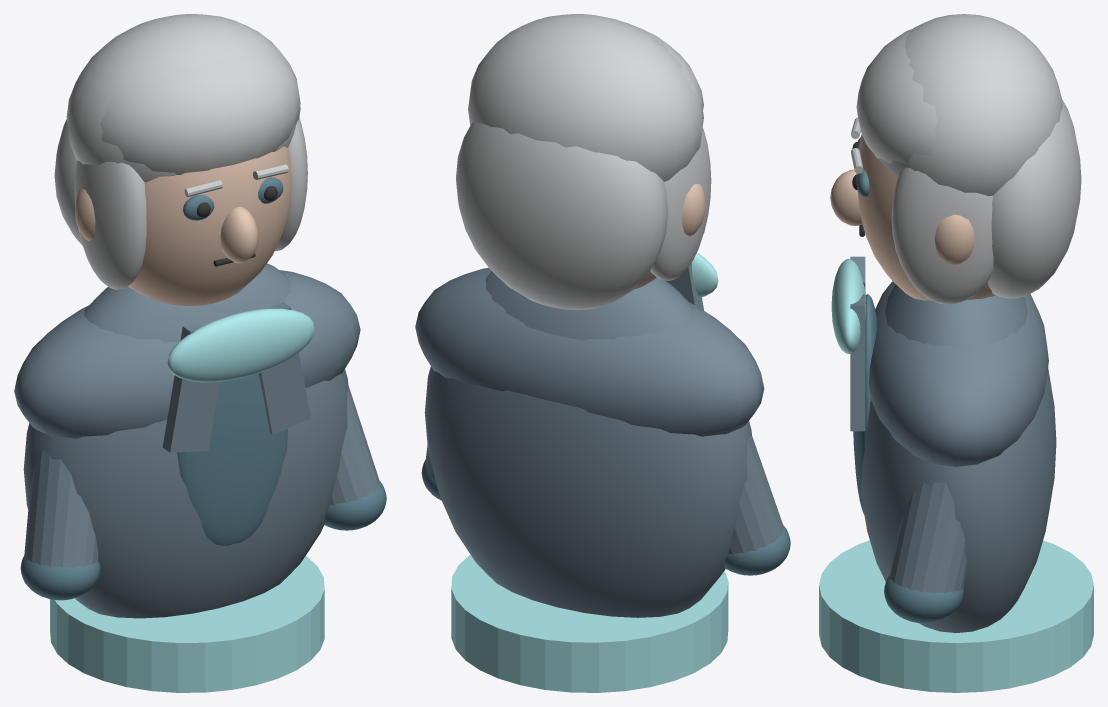
Rendered from macro.glb.
3 views of the same model, side by side, from view 1: azimuth 30°, elevation 25°; view 2: azimuth 150°, elevation 25°; view 3: azimuth 270°, elevation 25° (orthographic).
Parts seen in each view (by area): view 1: Jacket torso, Bust plinth, Shoulder line, Hair cap, Head, Silver bob, Shirt front, Cyan scarf, Hair side lock.011, Arm.011, Jacket lapel.010, Jacket lapel.011 (+7 smaller); view 2: Jacket torso, Shoulder line, Rear hair, Silver bob, Bust plinth, Hair side lock.011, Arm.011, Cuff.011, Ear.011, Cyan scarf, Hair cap, Jacket lapel.010; view 3: Jacket torso, Bust plinth, Silver bob, Shoulder line, Rear hair, Hair side lock, Hair cap, Arm, Head, Cyan scarf, Cuff, Jacket lapel.011 (+3 smaller).
Boxes of the visible parts, left/top/right/bottom form: Jacket torso: left=23, top=263, right=348, bottom=618; Bust plinth: left=50, top=556, right=324, bottom=692; Shoulder line: left=14, top=270, right=360, bottom=438; Hair cap: left=100, top=52, right=300, bottom=174; Head: left=128, top=146, right=291, bottom=306; Silver bob: left=66, top=14, right=300, bottom=182; Shirt front: left=177, top=373, right=287, bottom=545; Cyan scarf: left=167, top=308, right=314, bottom=382; Hair side lock.011: left=74, top=160, right=146, bottom=289; Arm.011: left=24, top=449, right=98, bottom=568; Jacket lapel.010: left=162, top=325, right=219, bottom=452; Jacket lapel.011: left=258, top=302, right=310, bottom=434; Jacket torso: left=424, top=271, right=752, bottom=617; Shoulder line: left=415, top=267, right=764, bottom=436; Rear hair: left=456, top=122, right=668, bottom=310; Silver bob: left=468, top=14, right=703, bottom=181; Bust plinth: left=451, top=554, right=728, bottom=692; Hair side lock.011: left=650, top=128, right=711, bottom=280; Arm.011: left=728, top=436, right=783, bottom=554; Cuff.011: left=724, top=525, right=790, bottom=575; Ear.011: left=682, top=183, right=705, bottom=236; Cyan scarf: left=692, top=252, right=718, bottom=297; Hair cap: left=631, top=24, right=703, bottom=116; Jacket lapel.010: left=665, top=262, right=703, bottom=310; Jacket torso: left=861, top=284, right=1056, bottom=632; Bust plinth: left=819, top=540, right=1093, bottom=692; Silver bob: left=878, top=14, right=1062, bottom=196; Shoulder line: left=869, top=281, right=1048, bottom=466; Rear hair: left=987, top=99, right=1081, bottom=298; Hair side lock: left=891, top=167, right=993, bottom=304; Hair cap: left=856, top=28, right=937, bottom=164; Arm: left=889, top=482, right=966, bottom=593; Head: left=856, top=134, right=995, bottom=300; Cyan scarf: left=831, top=258, right=865, bottom=353; Cuff: left=884, top=576, right=963, bottom=623; Jacket lapel.011: left=850, top=294, right=865, bottom=431.
Bounding box in the file's own units: 1.64 × 2.68 × 1.1.
